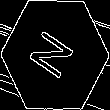N_SE: (27, 24, 83, 86)
